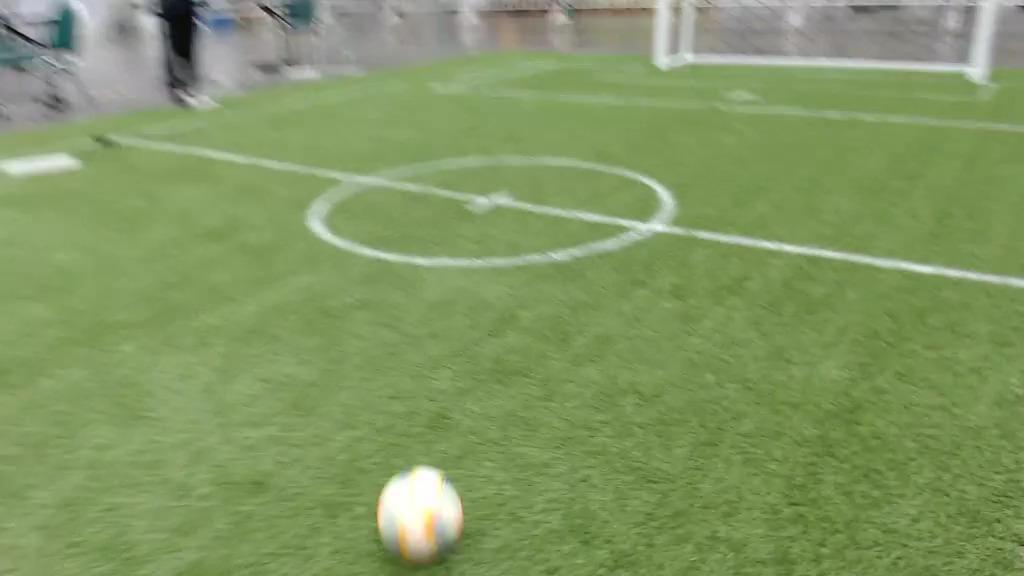ball: (378, 463, 462, 563)
